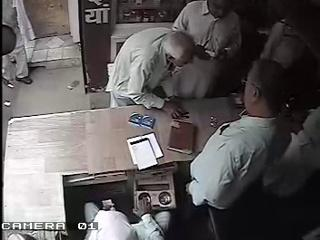Normal: (184, 59, 294, 240), (105, 27, 196, 118), (165, 0, 243, 99), (83, 192, 169, 240)
